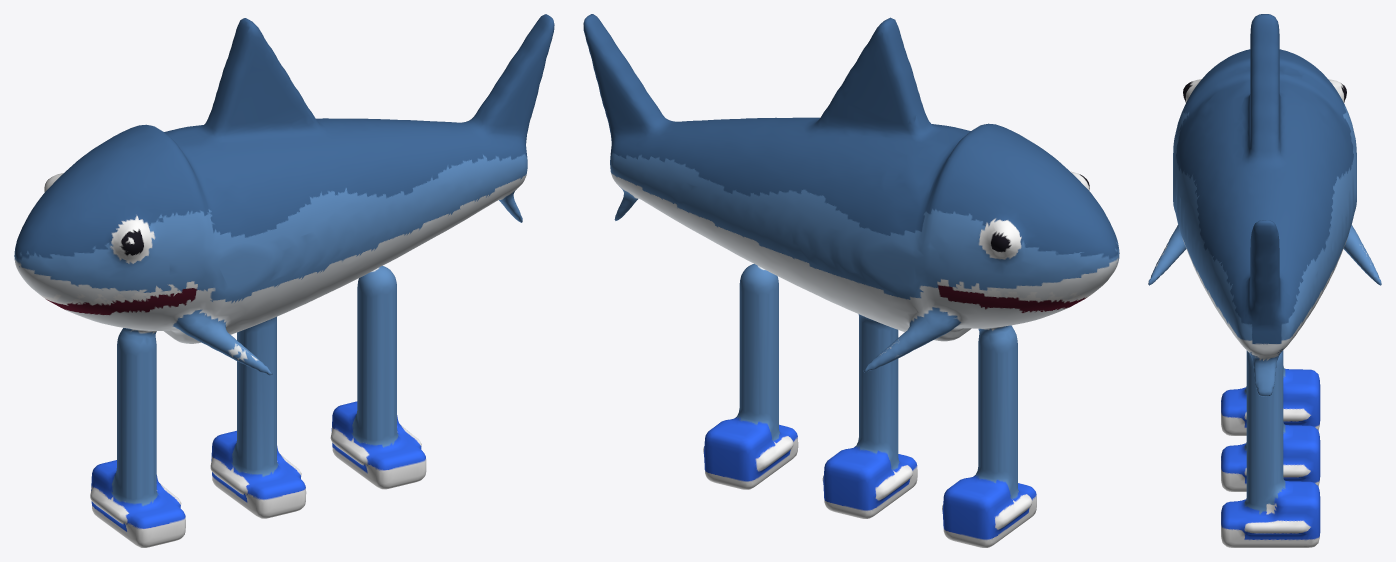
File: SM_Tralalero_Tralala.fbx
3 views of the same model, side by side, from view 1: azimuth 30°, elevation 25°; view 2: azimuth 150°, elevation 25°; view 3: azimuth 270°, elevation 25° (orthographic). The views are drawn at different scales.
Visible parts, largest first — view 1: Tralalero_Tralala; view 2: Tralalero_Tralala; view 3: Tralalero_Tralala.
Boxes of the visible parts, x1,y1,x2,y2 form: Tralalero_Tralala: (14, 14, 554, 547); Tralalero_Tralala: (583, 14, 1119, 547); Tralalero_Tralala: (1148, 14, 1381, 547).
Size of the model in its own units: 1.6 by 1.39 by 0.6342.
1 material, 1 textured.
